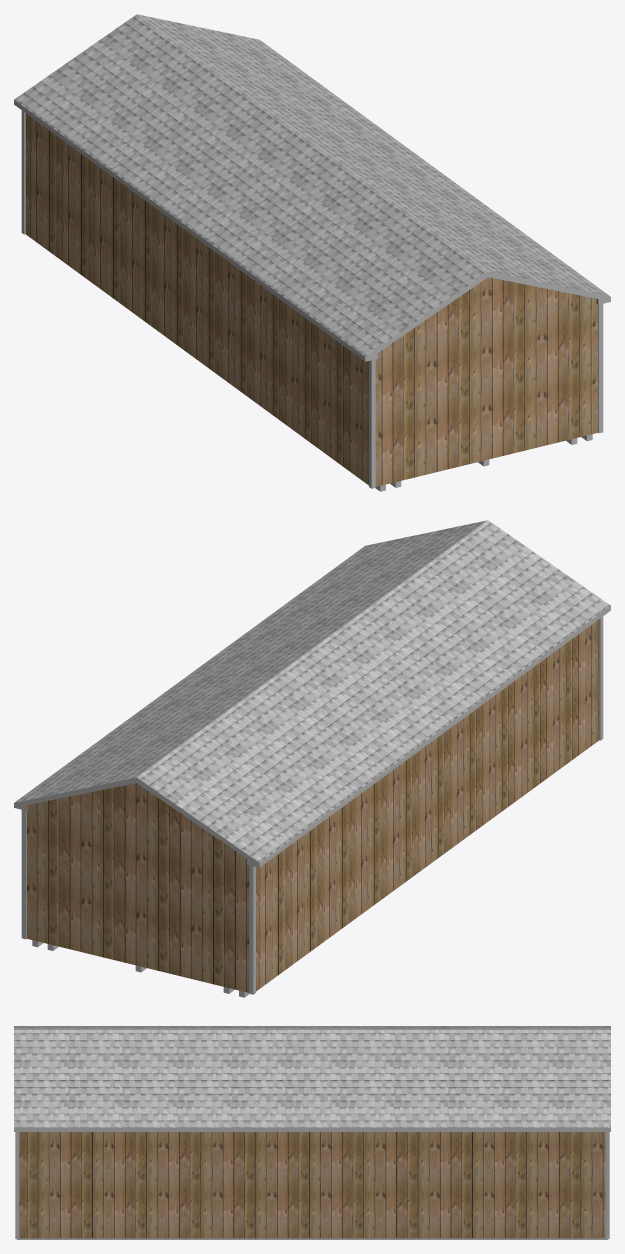
Rendered from Single Garage A-frame_14x36.obj.
3 renders of one model, top to bottom at view 1: azimuth 30°, elevation 25°; view 2: azimuth 150°, elevation 25°; view 3: azimuth 270°, elevation 25°, orthographic. The views are drawn at different scales.
Visible parts, largest first — view 1: Roof, Shed, Sides, Trim; view 2: Roof, Shed, Sides, Trim; view 3: Shed, Roof, Sides, Floor, Trim.
Part boxes in pixels (<box>): Roof: <box>14,14,610,356</box>; Shed: <box>25,113,598,486</box>; Sides: <box>14,100,610,361</box>; Trim: <box>21,110,603,488</box>; Roof: <box>14,520,610,862</box>; Shed: <box>26,619,599,992</box>; Sides: <box>14,606,610,867</box>; Trim: <box>21,616,603,994</box>; Shed: <box>19,1132,605,1238</box>; Roof: <box>14,1026,610,1127</box>; Sides: <box>14,1128,610,1131</box>; Floor: <box>16,1238,608,1239</box>; Trim: <box>15,1132,609,1238</box>.
Bounding box in the file's own units: 4.47 × 3.4 × 11.07.
